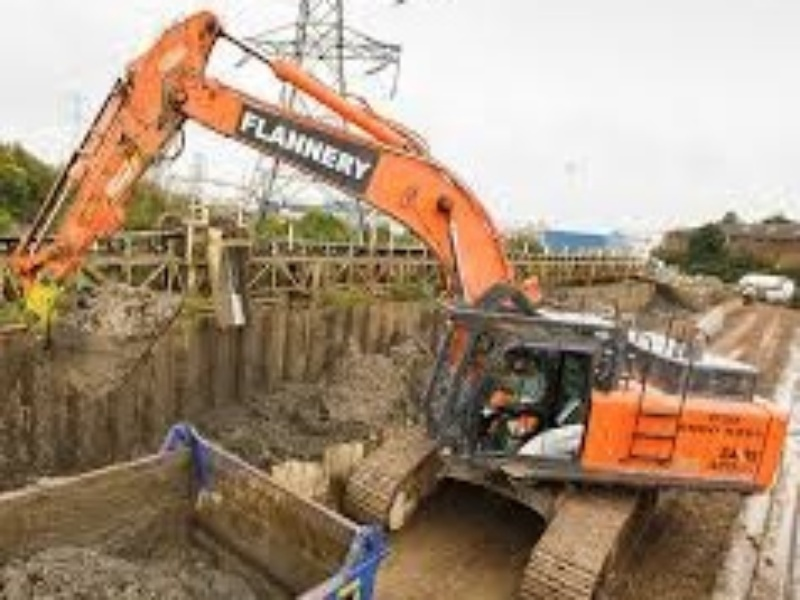wajueji: (352, 138, 789, 594)
